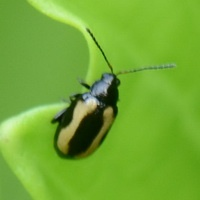insect: (51, 73, 119, 157)
